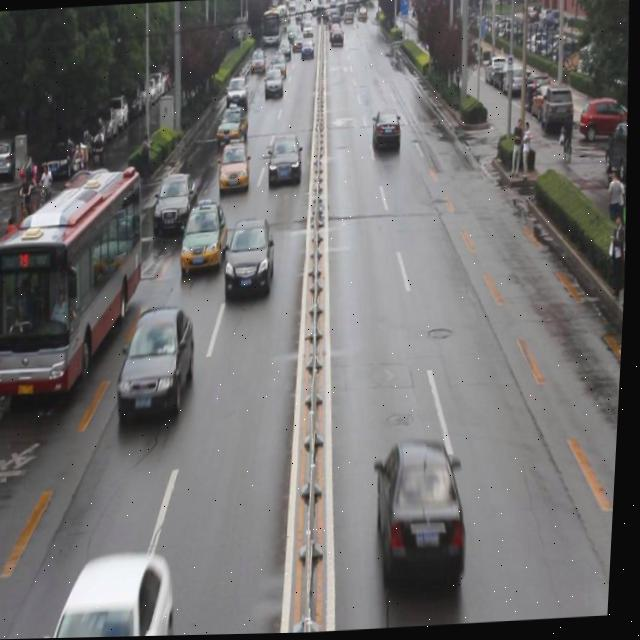car: (373, 434, 475, 593), (114, 305, 201, 429), (222, 216, 279, 306), (179, 199, 232, 278), (64, 167, 132, 216), (153, 168, 200, 232), (267, 136, 304, 186), (219, 142, 253, 193), (371, 108, 402, 155), (217, 103, 250, 147), (225, 76, 250, 112), (263, 70, 285, 100)
van: (0, 164, 153, 404)
